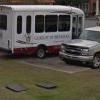Bus: (2, 2, 76, 56)
